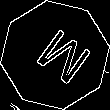M_SW: (22, 21, 88, 89)
